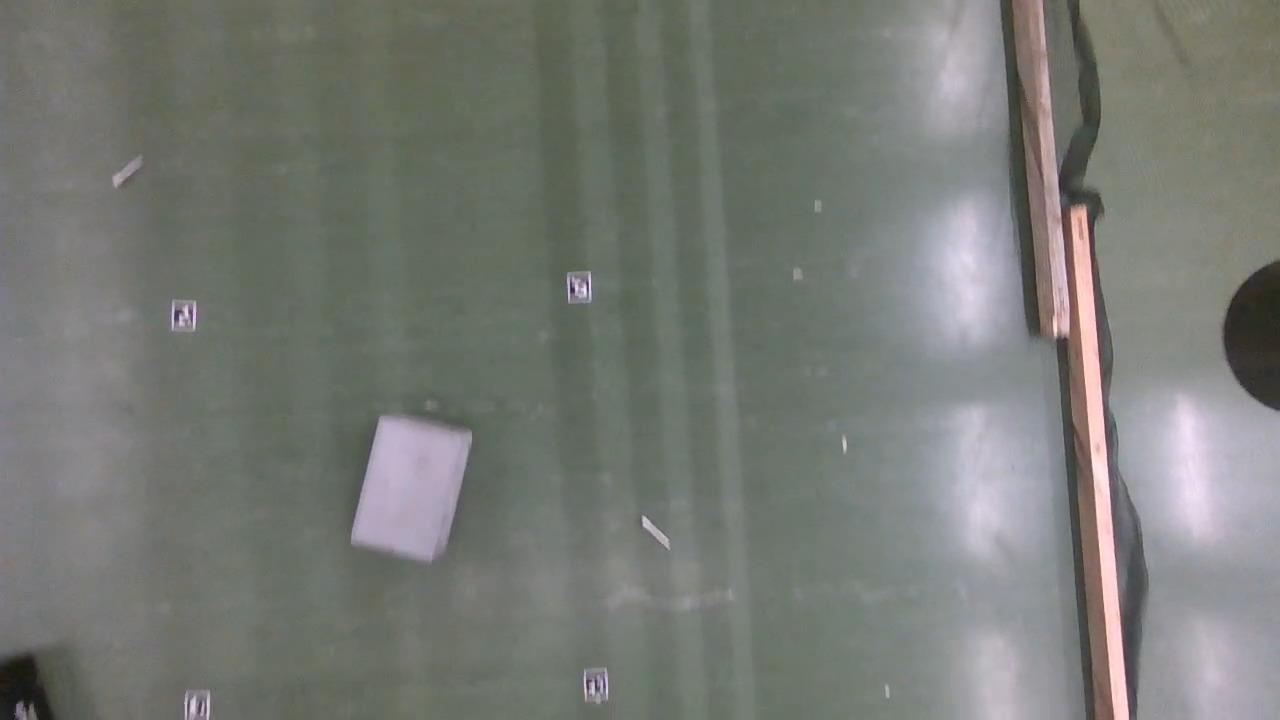probes: (640, 514, 670, 552), (112, 154, 143, 188)
rako: (351, 416, 470, 562)
